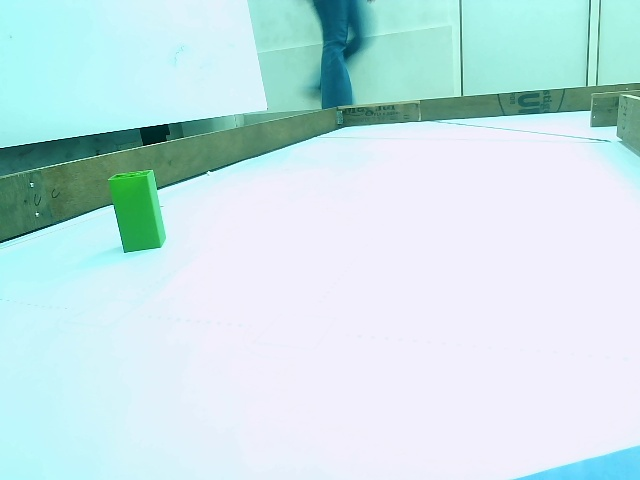green: (111, 176, 163, 249)
